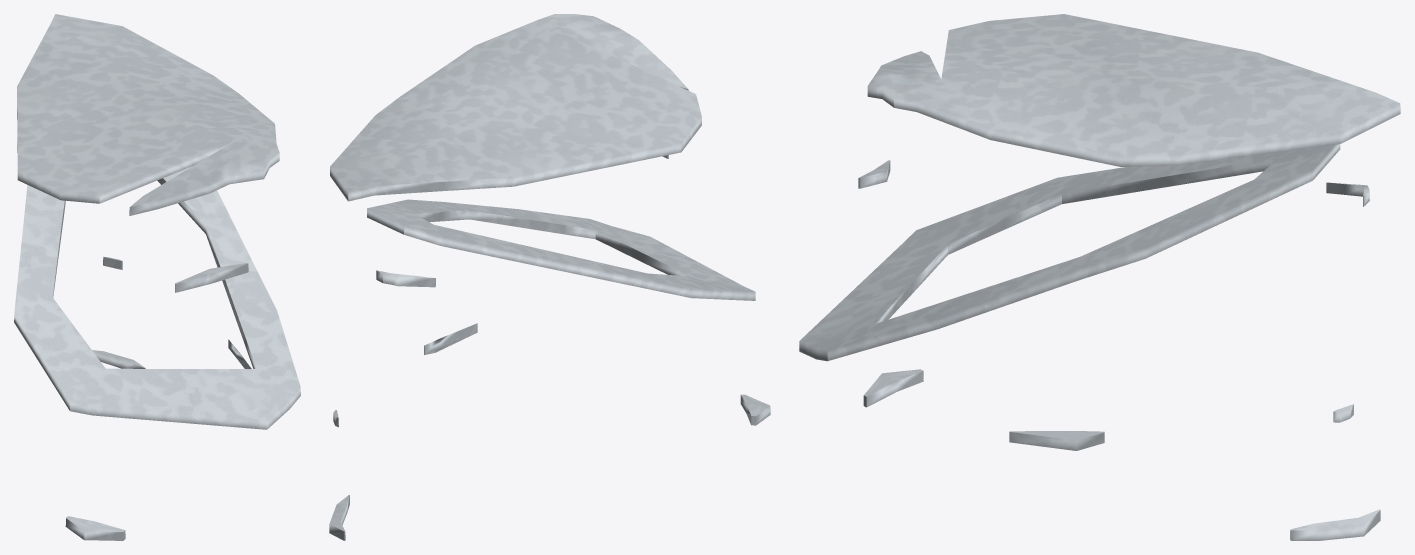
Rendered from Cliff_13_Snow.fbx.
The picture shows the model from 3 angles, left to right: view 1: azimuth 30°, elevation 25°; view 2: azimuth 150°, elevation 25°; view 3: azimuth 270°, elevation 25°; orthographic projection. The views are drawn at different scales.
Visible parts, largest first — view 1: Cliff_13_Snow; view 2: Cliff_13_Snow; view 3: Cliff_13_Snow.
Part boxes in pixels (x1,y1,x2,y2): Cliff_13_Snow: (14, 14, 300, 540); Cliff_13_Snow: (329, 14, 770, 540); Cliff_13_Snow: (799, 14, 1400, 540).
Bounding box in the file's own units: 2449 × 3279 × 4130.
